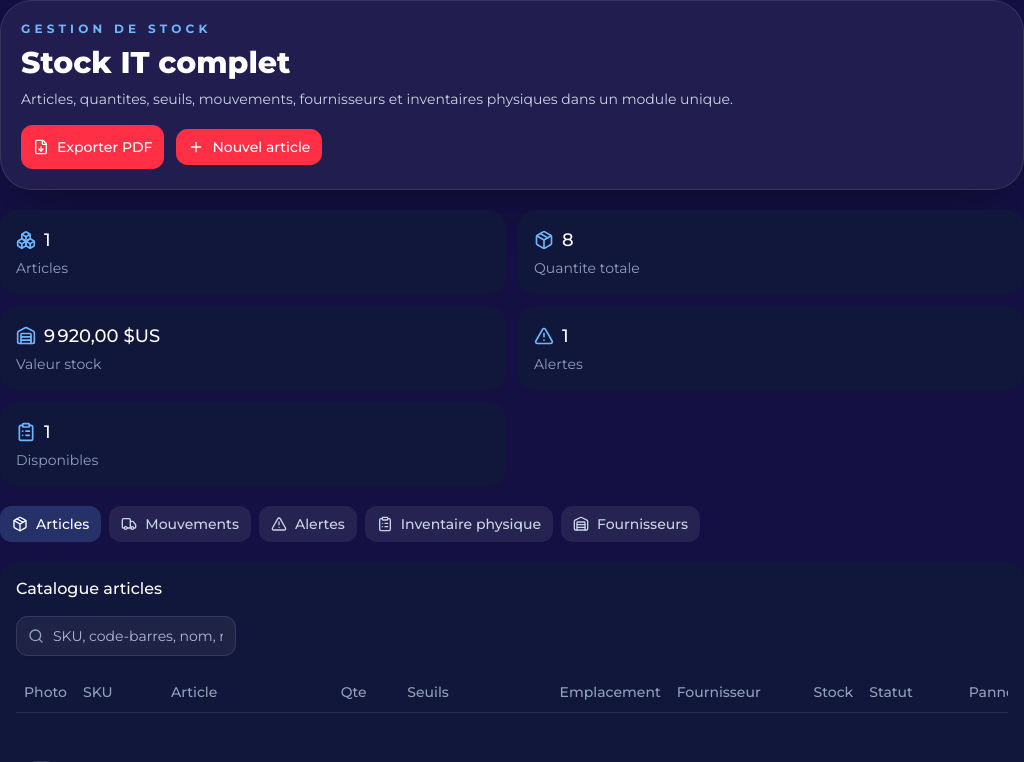
Test: StockManagementContent › affiche les alertes stock bas
Click the button "Alertes": [308, 524] box [259, 506, 357, 542]
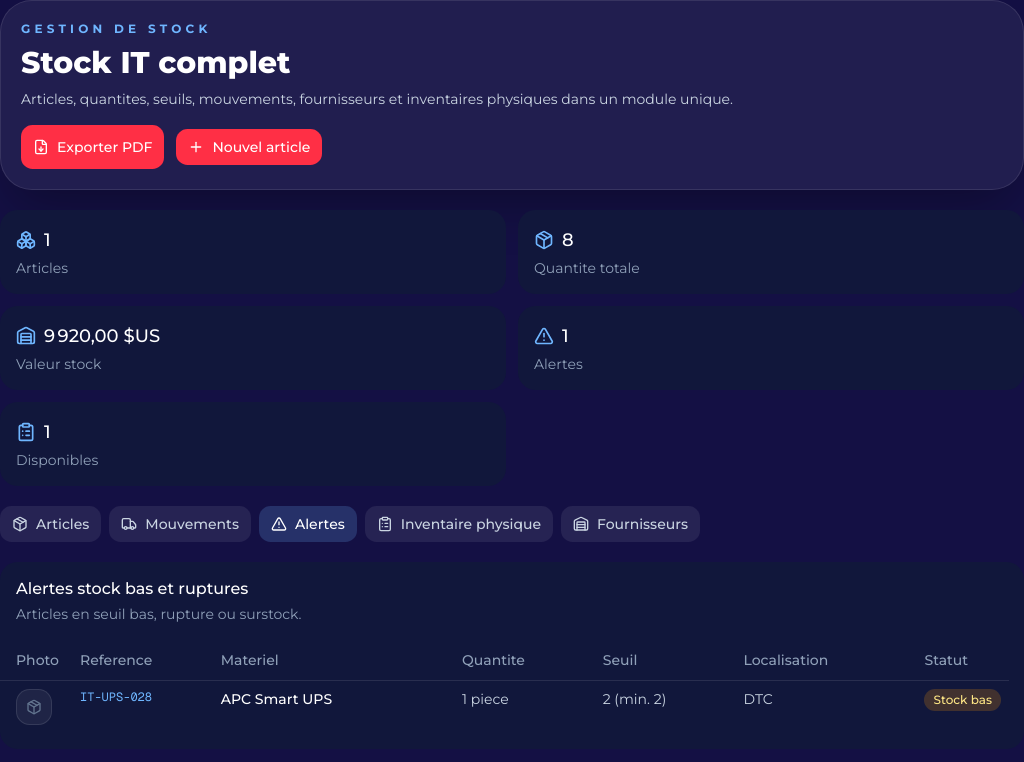
Expected: the text "APC Smart UPS" is shown, [205, 680, 446, 732]
Expected: the text "Stock bas" is shown, [924, 688, 1001, 710]
